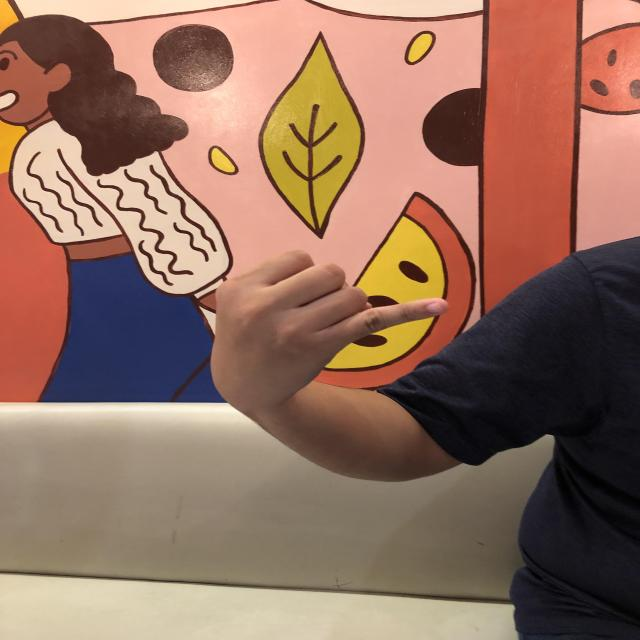J: (210, 251, 450, 405)
